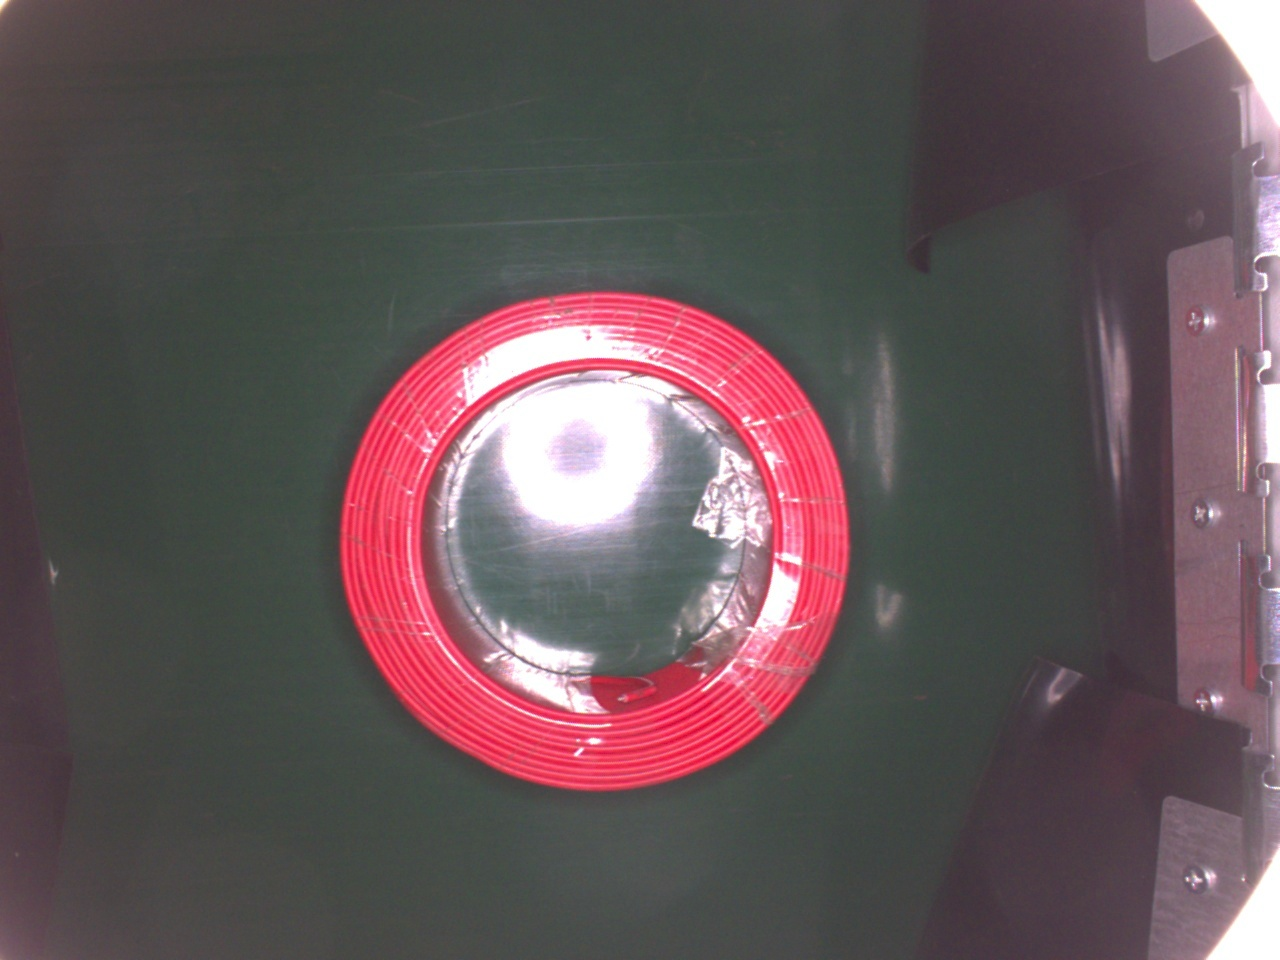red: (339, 287, 850, 787)
